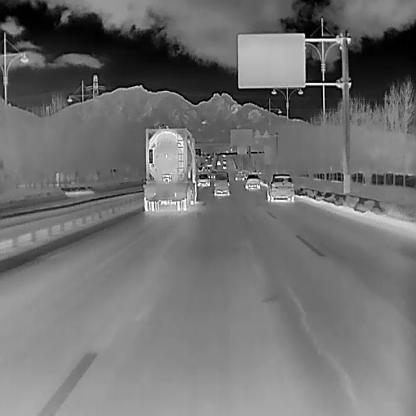car: (142, 125, 198, 211), (266, 173, 295, 202), (213, 171, 230, 195), (245, 173, 260, 189), (196, 172, 210, 186), (235, 169, 244, 180), (204, 154, 209, 161), (216, 158, 221, 165), (222, 164, 227, 169), (198, 166, 203, 171), (222, 159, 226, 164)
